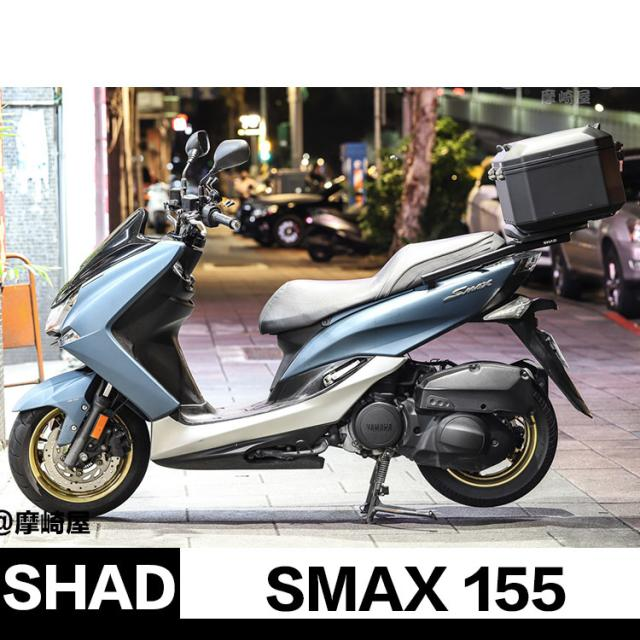Bike: (9, 126, 624, 521)
